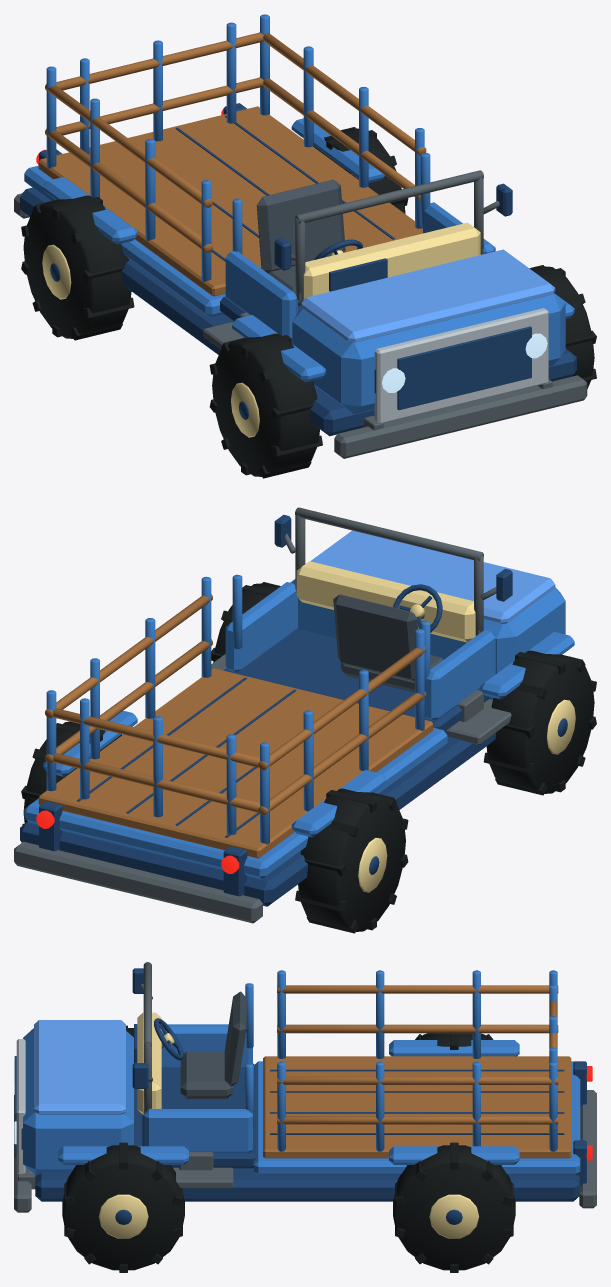
File: FTF_Vehicle_NorthAmericanFarmTruck_Blue_Open_7m.glb
The picture shows the model from 3 angles, top to bottom: view 1: azimuth 30°, elevation 25°; view 2: azimuth 150°, elevation 25°; view 3: azimuth 270°, elevation 25°; orthographic projection. The views are drawn at different scales.
Visible parts, largest first — view 1: FTF_Vehicle_NorthAmericanFarmTruck_Blue_Open_7m_Static, Wheel_FL_Mesh, Wheel_RL_Mesh, Wheel_FR_Mesh, Wheel_RR_Mesh; view 2: FTF_Vehicle_NorthAmericanFarmTruck_Blue_Open_7m_Static, Wheel_RL_Mesh, Wheel_FL_Mesh, Wheel_RR_Mesh, Wheel_FR_Mesh, SteeringWheel_Mesh; view 3: FTF_Vehicle_NorthAmericanFarmTruck_Blue_Open_7m_Static, Wheel_RR_Mesh, Wheel_FR_Mesh, Wheel_RL_Mesh, SteeringWheel_Mesh.
Boxes of the visible parts, bbox=[...] form: FTF_Vehicle_NorthAmericanFarmTruck_Blue_Open_7m_Static: bbox=[14, 14, 587, 458]; Wheel_FL_Mesh: bbox=[209, 333, 322, 478]; Wheel_RL_Mesh: bbox=[21, 195, 134, 340]; Wheel_FR_Mesh: bbox=[529, 265, 596, 388]; Wheel_RR_Mesh: bbox=[313, 127, 408, 213]; FTF_Vehicle_NorthAmericanFarmTruck_Blue_Open_7m_Static: bbox=[14, 507, 574, 923]; Wheel_RL_Mesh: bbox=[295, 788, 408, 933]; Wheel_FL_Mesh: bbox=[483, 650, 596, 795]; Wheel_RR_Mesh: bbox=[21, 721, 122, 825]; Wheel_FR_Mesh: bbox=[211, 582, 280, 662]; SteeringWheel_Mesh: bbox=[393, 584, 442, 632]; FTF_Vehicle_NorthAmericanFarmTruck_Blue_Open_7m_Static: bbox=[14, 962, 596, 1212]; Wheel_RR_Mesh: bbox=[393, 1142, 515, 1272]; Wheel_FR_Mesh: bbox=[62, 1142, 184, 1272]; Wheel_RL_Mesh: bbox=[415, 1033, 493, 1049]; SteeringWheel_Mesh: bbox=[154, 1018, 183, 1060].
Size of the model in its own units: 4.02 by 2.78 by 7.23.
